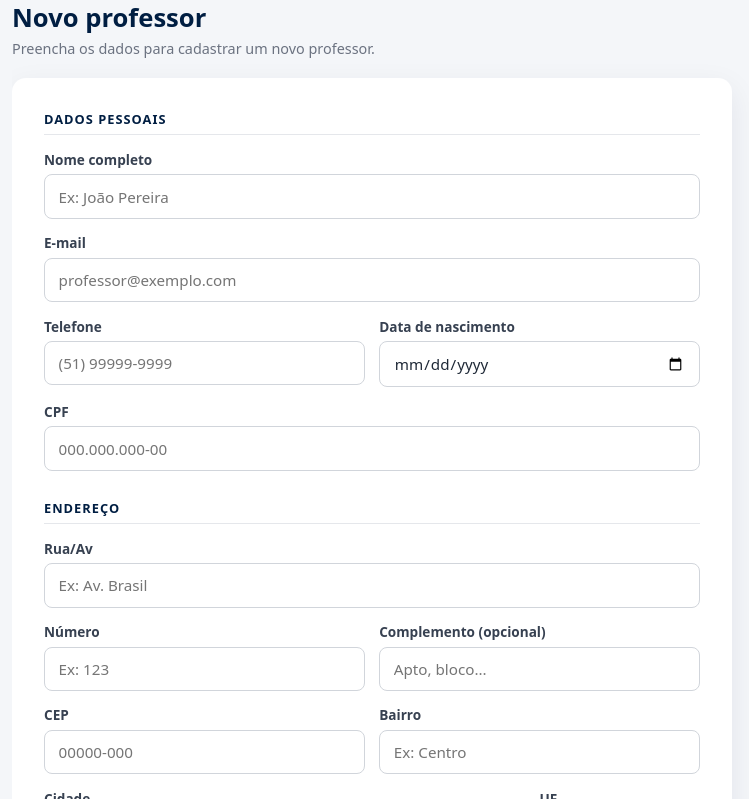
Endereço pelo CEP › no cadastro de professor, o CEP preenche o endereço
The image size is (749, 799).
Type "92035540" into the field labelled "CEP" at {"x": 204, "y": 752}, box [44,730,365,774]
(page scrolled)
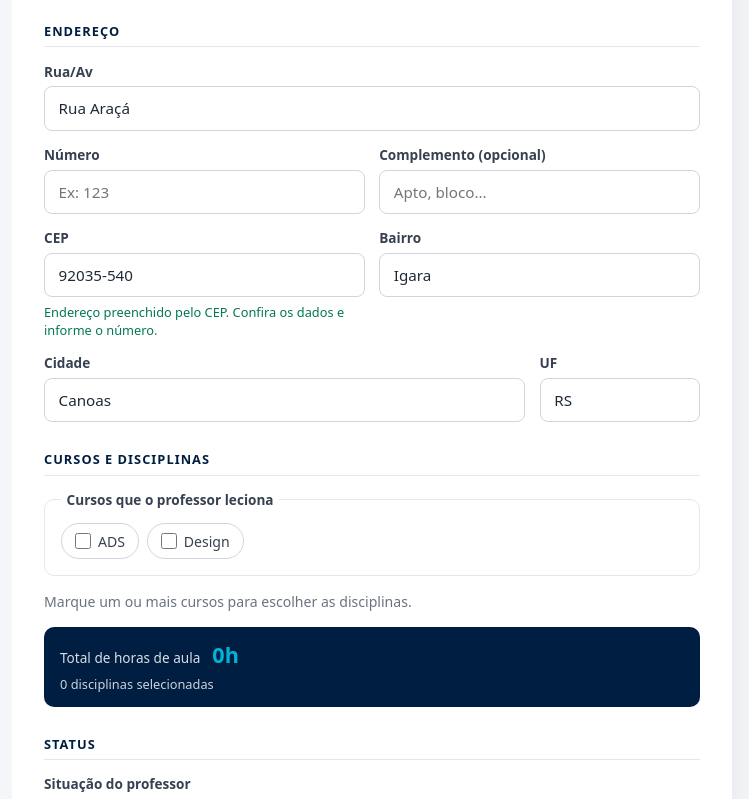
Expected: the field labelled "Rua/Av" holds "Rua Araçá", [44,86,700,131]
Expected: the field labelled "CEP" holds "92035-540", [44,253,365,297]
Expected: the field labelled "Bairro" holds "Igara", [379,253,700,297]
